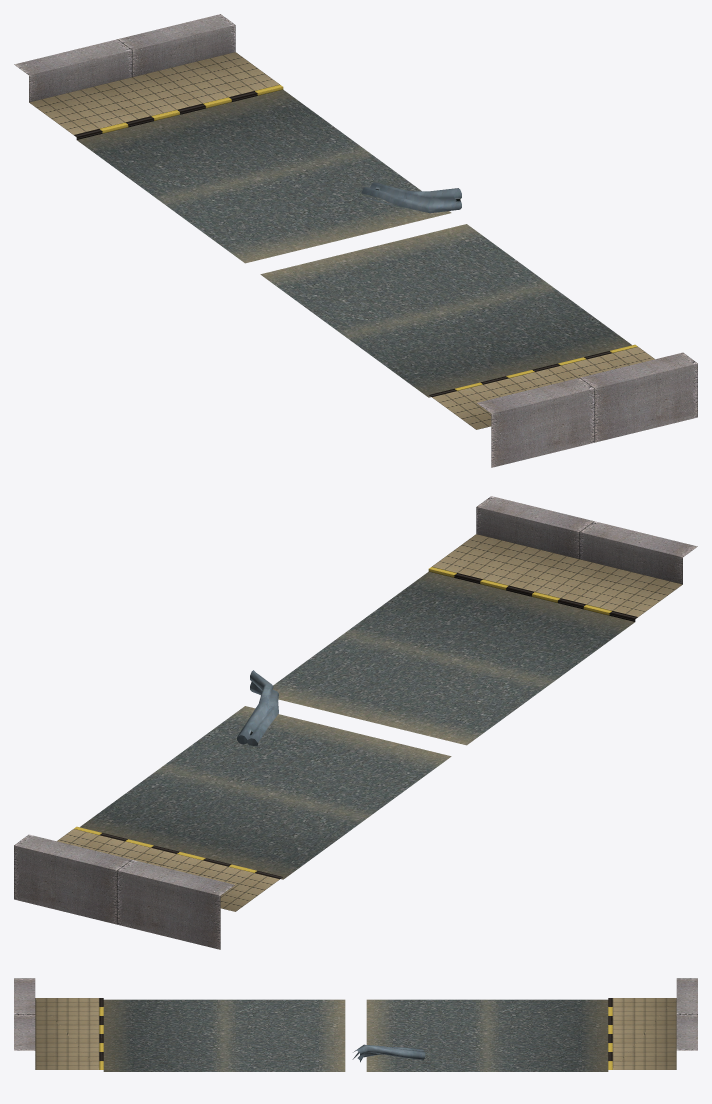
File: M2_Zone4_FlyOver3.glb
3 views of the same model, one above another, from view 1: azimuth 30°, elevation 25°; view 2: azimuth 150°, elevation 25°; view 3: azimuth 270°, elevation 25° (orthographic). The views are drawn at different scales.
Visible parts, largest first — view 1: M2_ZONE4_FLYOVER3; view 2: M2_ZONE4_FLYOVER3; view 3: M2_ZONE4_FLYOVER3.
Part boxes in pixels (<box>): M2_ZONE4_FLYOVER3: <box>14,14,697,467</box>; M2_ZONE4_FLYOVER3: <box>14,496,697,949</box>; M2_ZONE4_FLYOVER3: <box>14,978,697,1071</box>.
Bounding box in the file's own units: 8 × 2 × 32.
6 materials, 6 textured.
